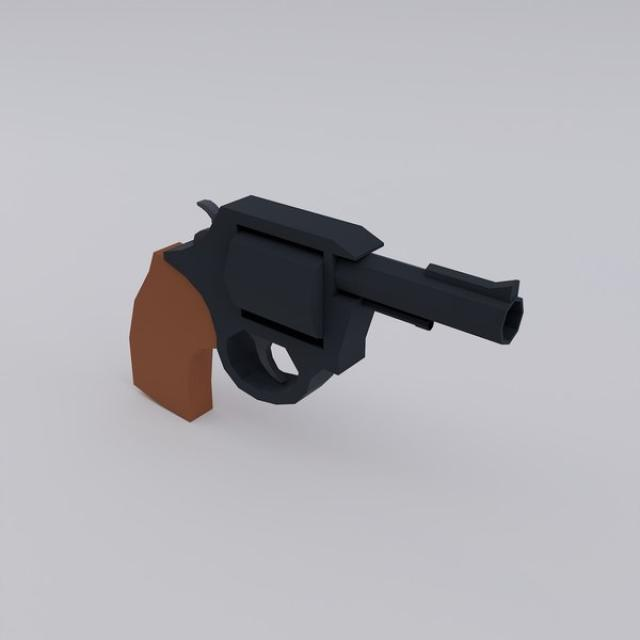Gun: (99, 166, 530, 462)
